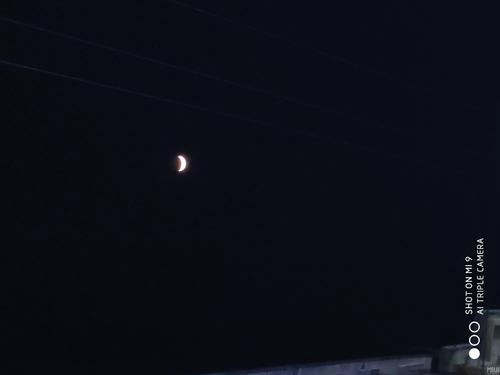moon: (175, 154, 187, 172)
